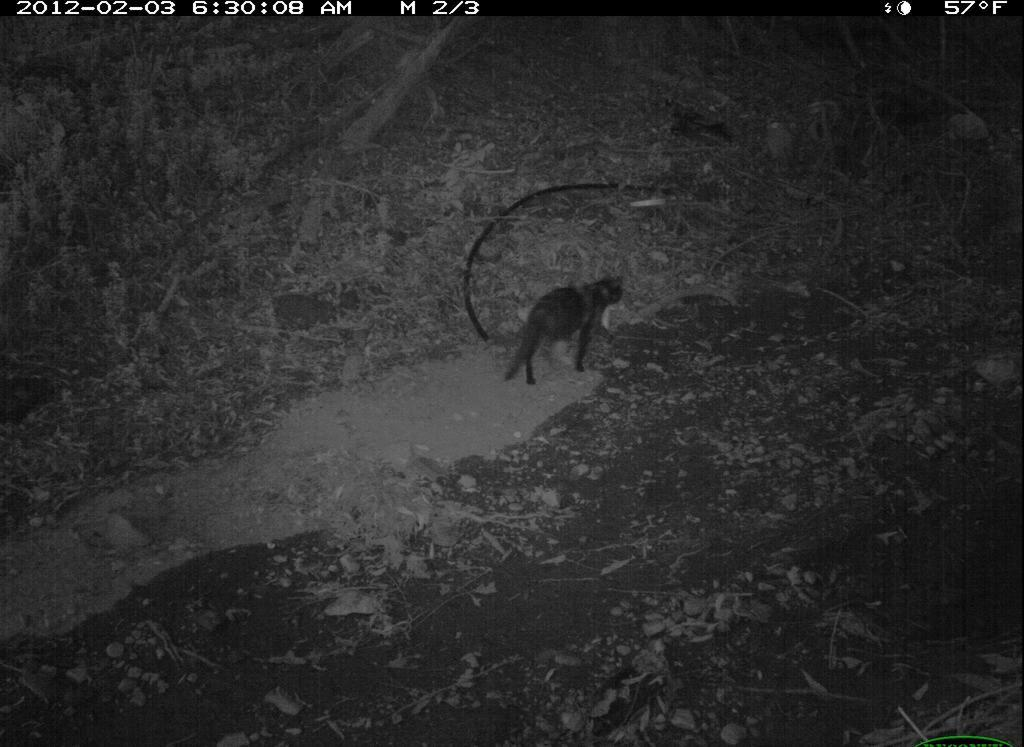cat: (486, 257, 638, 404)
